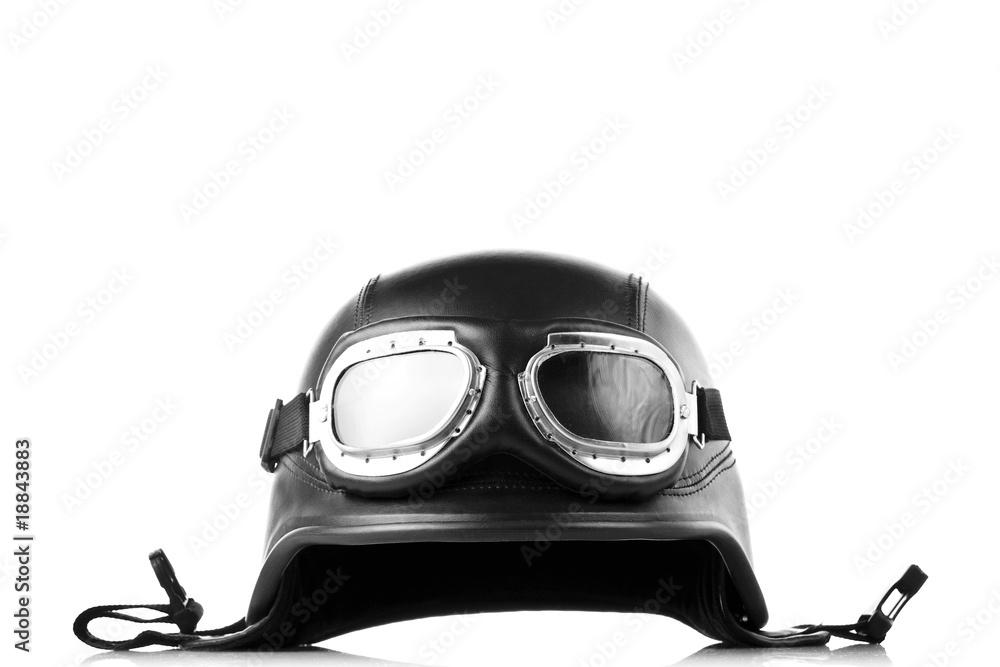helmet: (69, 246, 930, 656)
